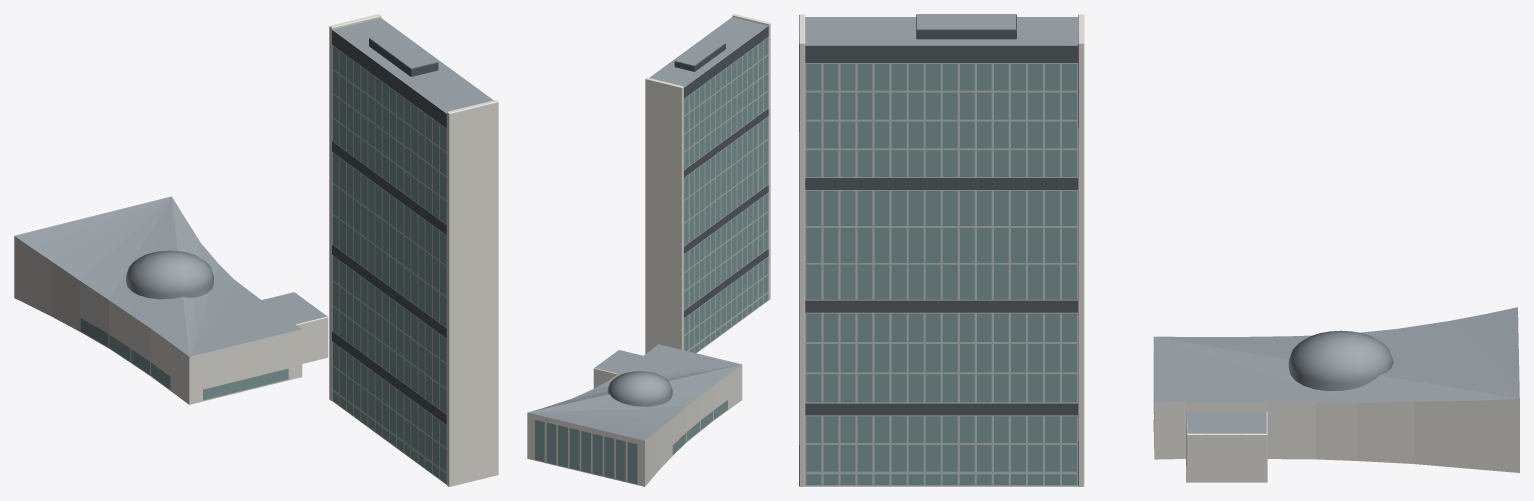
File: nyc-united-nations.glb
3 views of the same model, side by side, from view 1: azimuth 30°, elevation 25°; view 2: azimuth 150°, elevation 25°; view 3: azimuth 270°, elevation 25° (orthographic). The views are drawn at different scales.
Parts seen in each view (by area): view 1: United Nations Headquarters; view 2: United Nations Headquarters; view 3: United Nations Headquarters.
Part boxes in pixels (x1,y1,x2,y2): United Nations Headquarters: [14, 14, 498, 486]; United Nations Headquarters: [527, 14, 770, 486]; United Nations Headquarters: [799, 14, 1519, 486].
Bounding box in the file's own units: 79.5 × 158 × 229.
